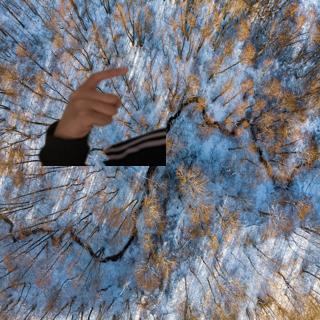WHY: (54, 64, 130, 138)
